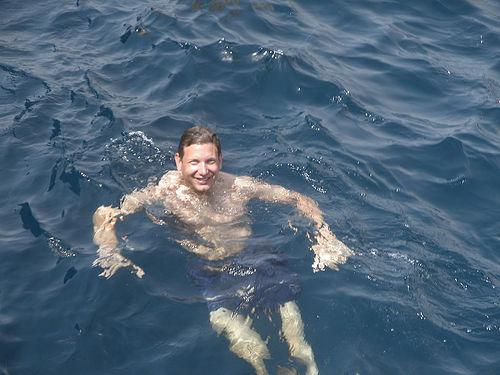swimmer: (91, 123, 350, 374)
